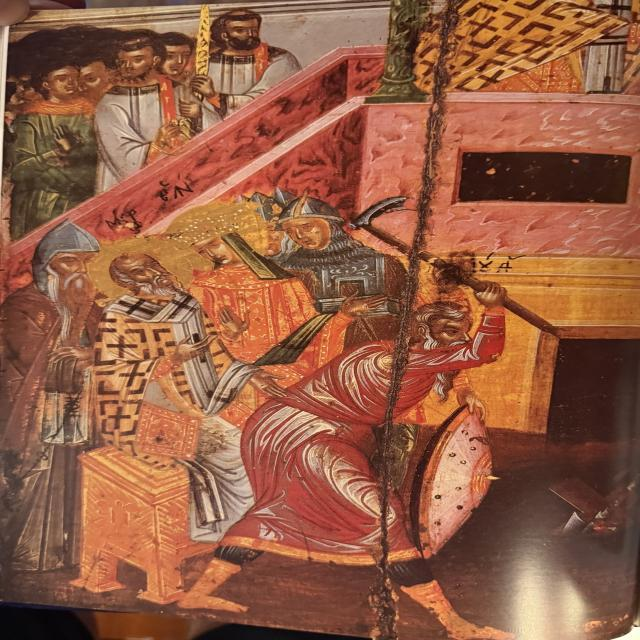aura: (83, 238, 199, 302), (161, 205, 273, 265)
church_father: (82, 236, 244, 528)
crown: (177, 207, 264, 244)
shield: (403, 399, 503, 571)
sword: (351, 193, 582, 355)
